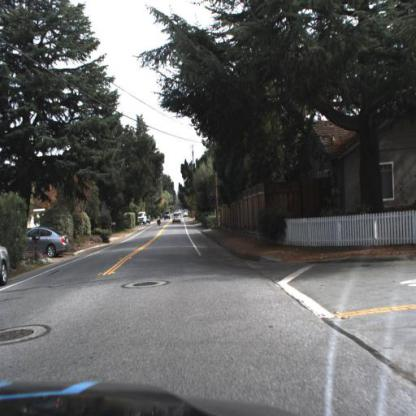biker: (156, 211, 164, 232)
car: (22, 222, 72, 258), (1, 245, 13, 289), (137, 208, 151, 229), (171, 212, 184, 227)
